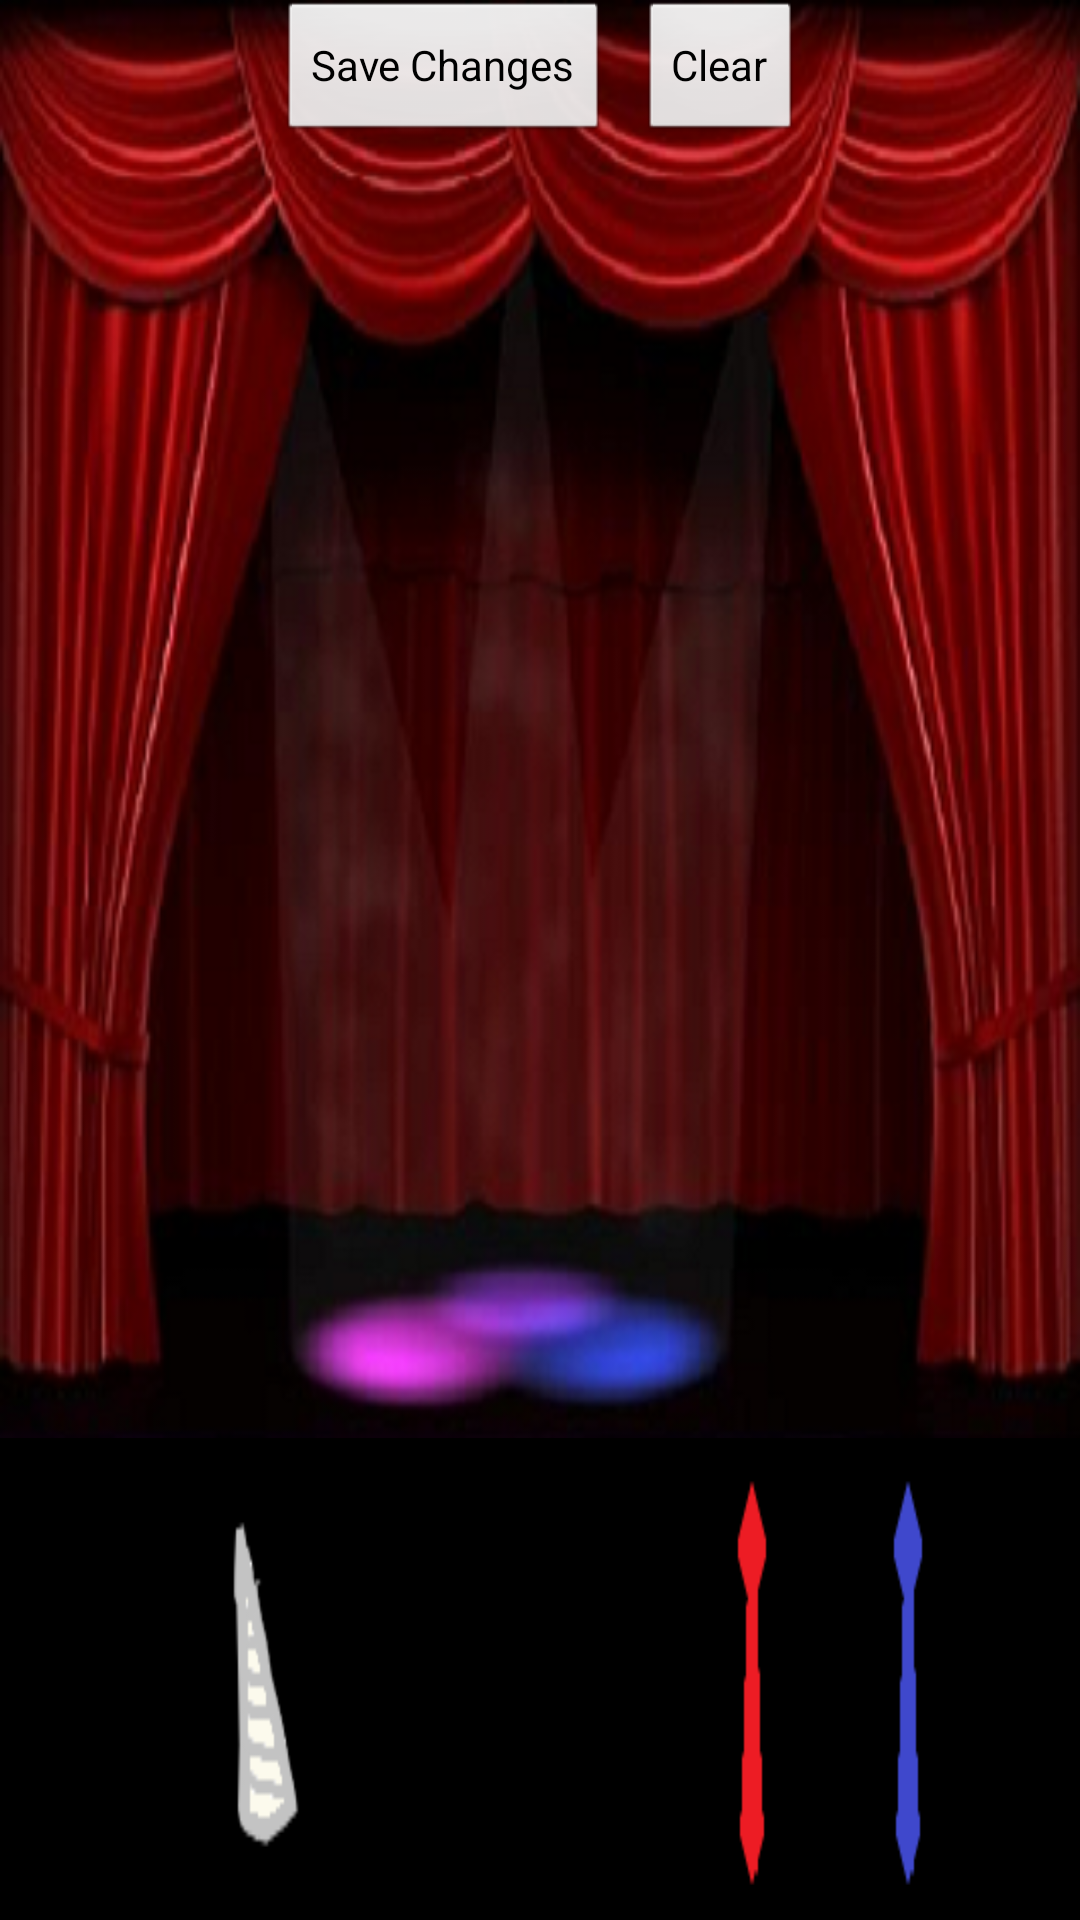

Screen size 1080×1920. Icon name, then its center in pixels as point (x, y):
acc unicorn horn: point (265, 1684)
